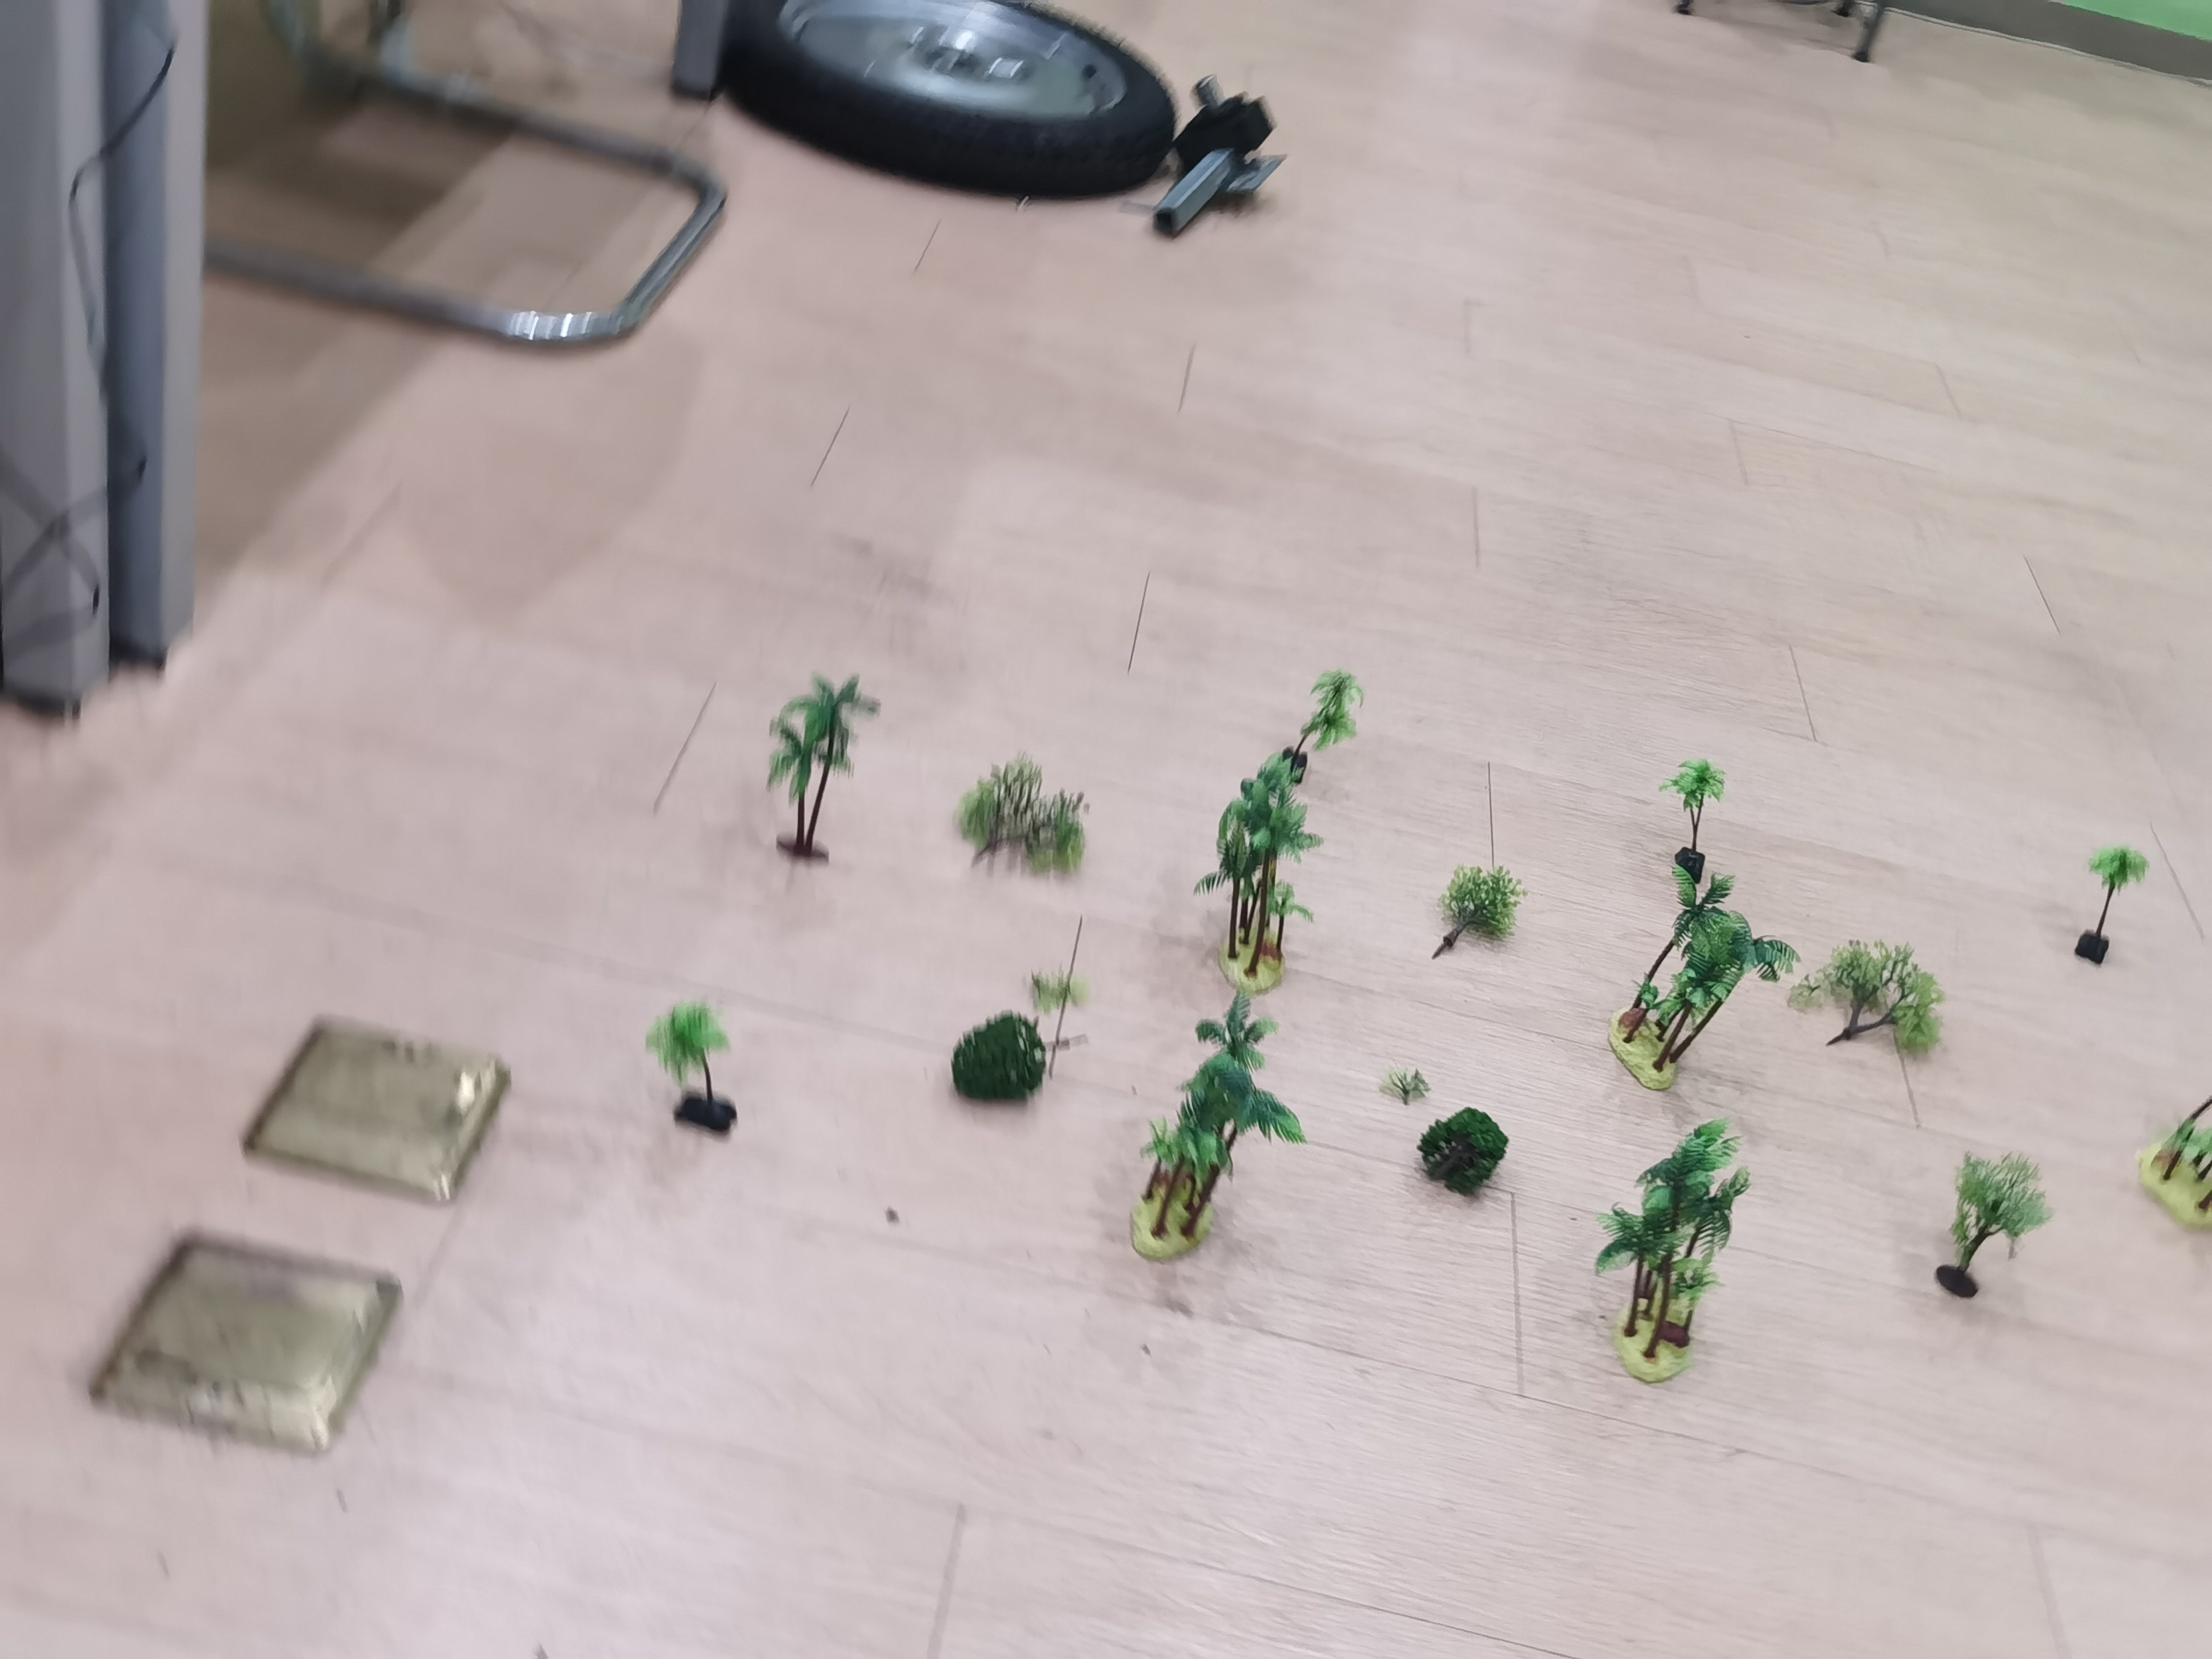corn: (1129, 992, 1292, 1269), (1590, 1122, 1759, 1380), (1604, 896, 1785, 1093), (1186, 758, 1308, 993), (756, 673, 862, 861), (632, 1000, 752, 1131), (1259, 669, 1369, 793), (2054, 826, 2142, 969), (2137, 1070, 2212, 1229), (1656, 756, 1740, 884)
